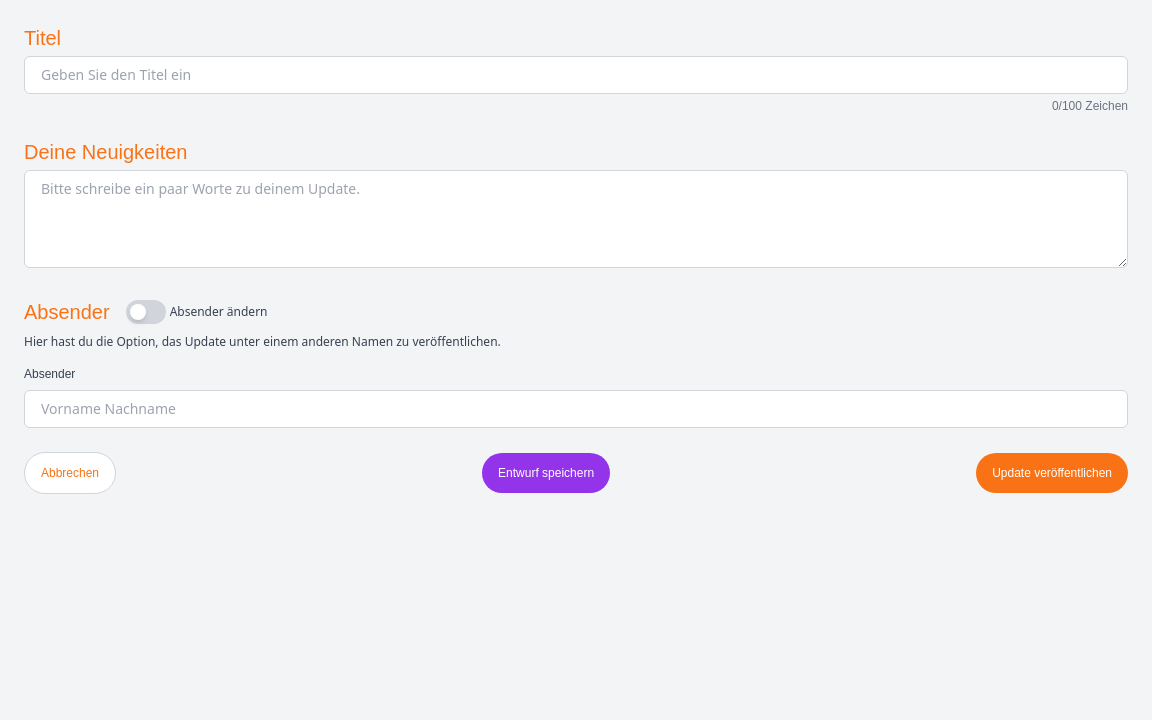
Test: Form Component › shows error message when fields are empty on save draft
Click the button "Entwurf speichern": (546, 473) [482, 453, 610, 493]
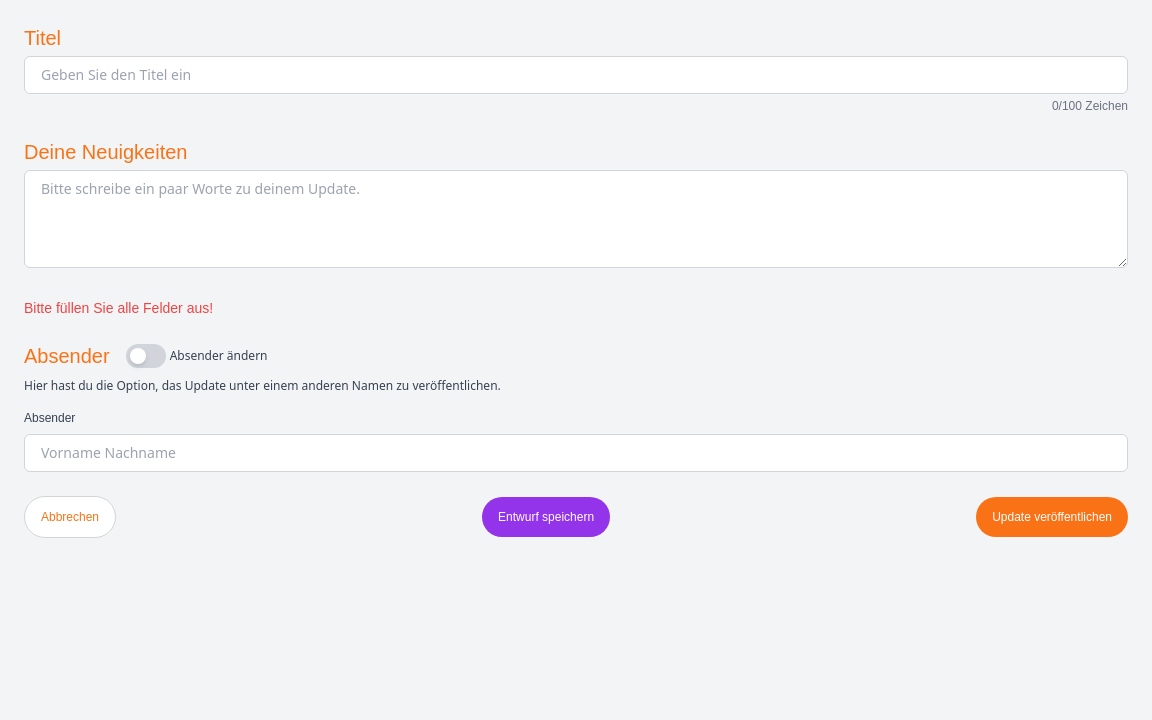
Expected: the text "Bitte füllen Sie alle Felder aus!" is shown, [24, 300, 213, 316]
